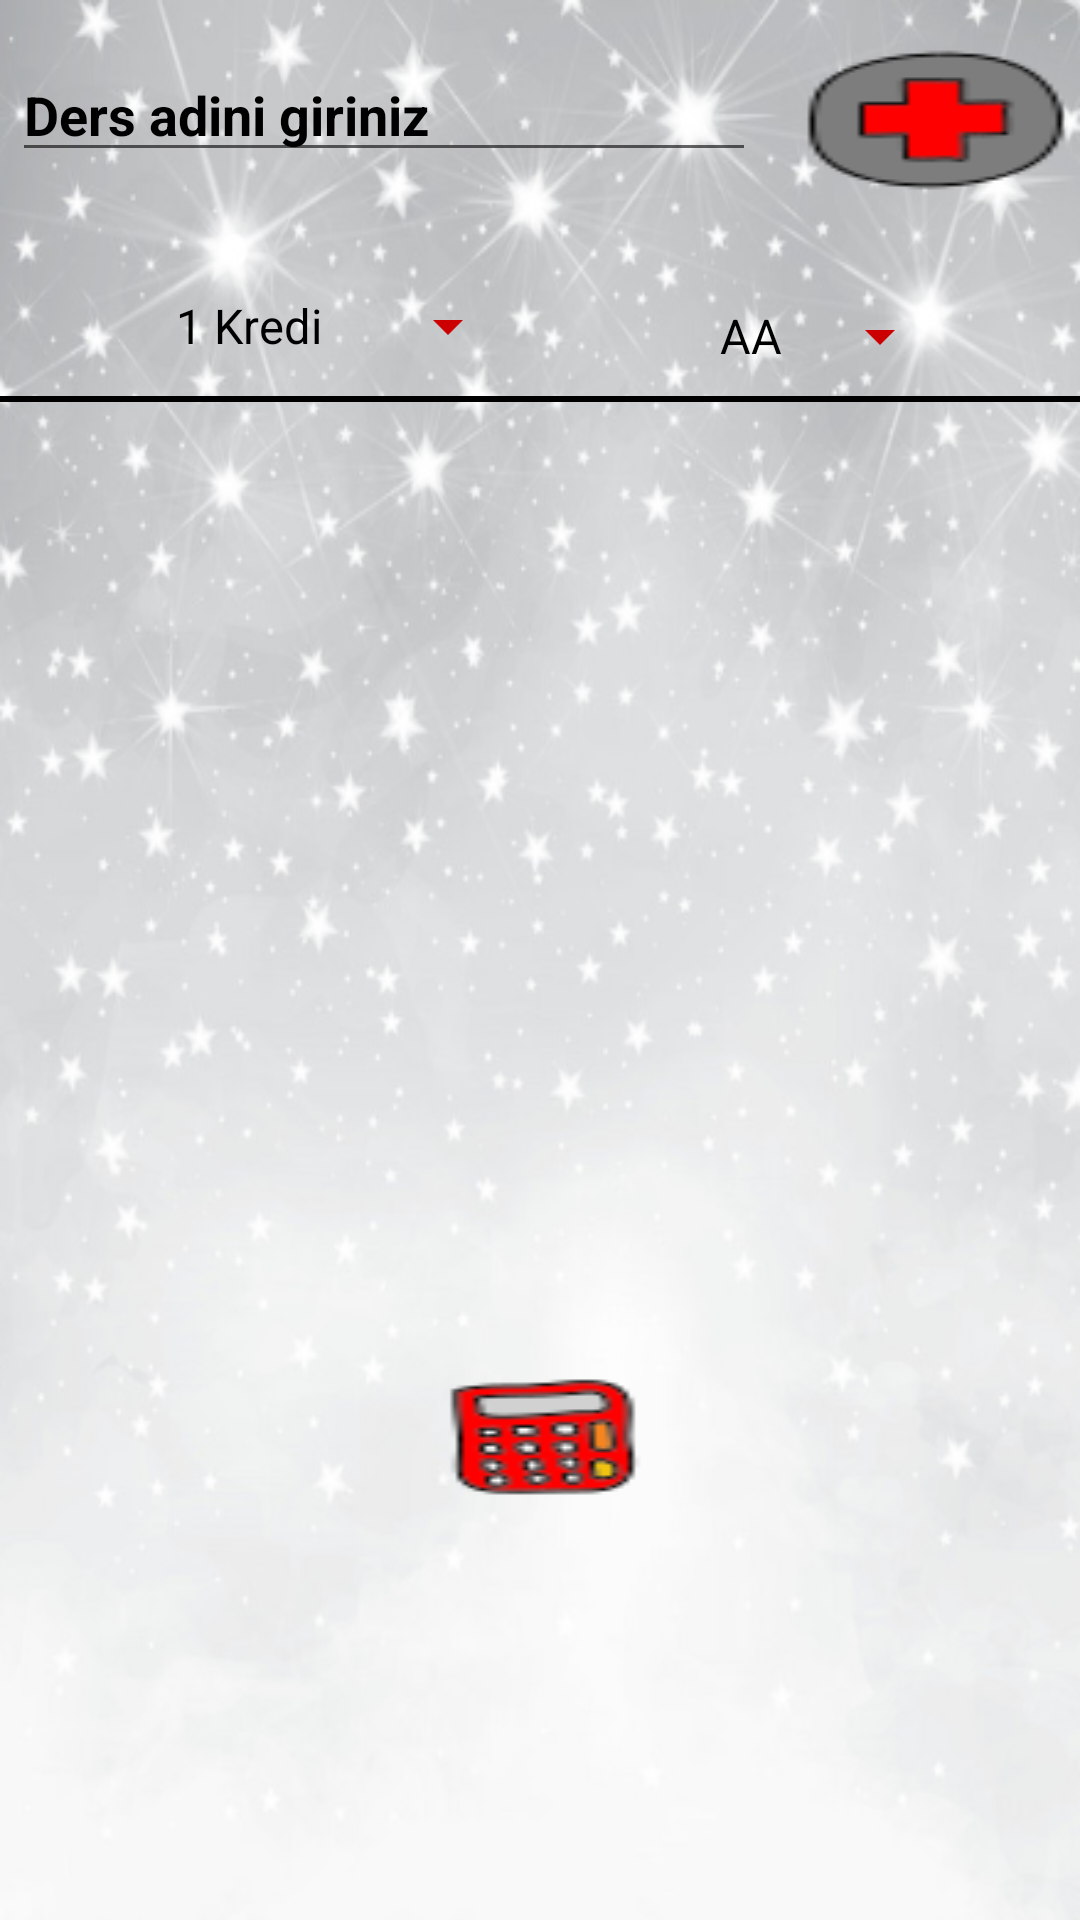

Named icons in this screenshot (1080 x 1920) and their bounding boxes, Rect(x1, y1, x2, y2):
calculate: Rect(450, 1379, 636, 1495)
plus: Rect(804, 50, 1068, 192)
